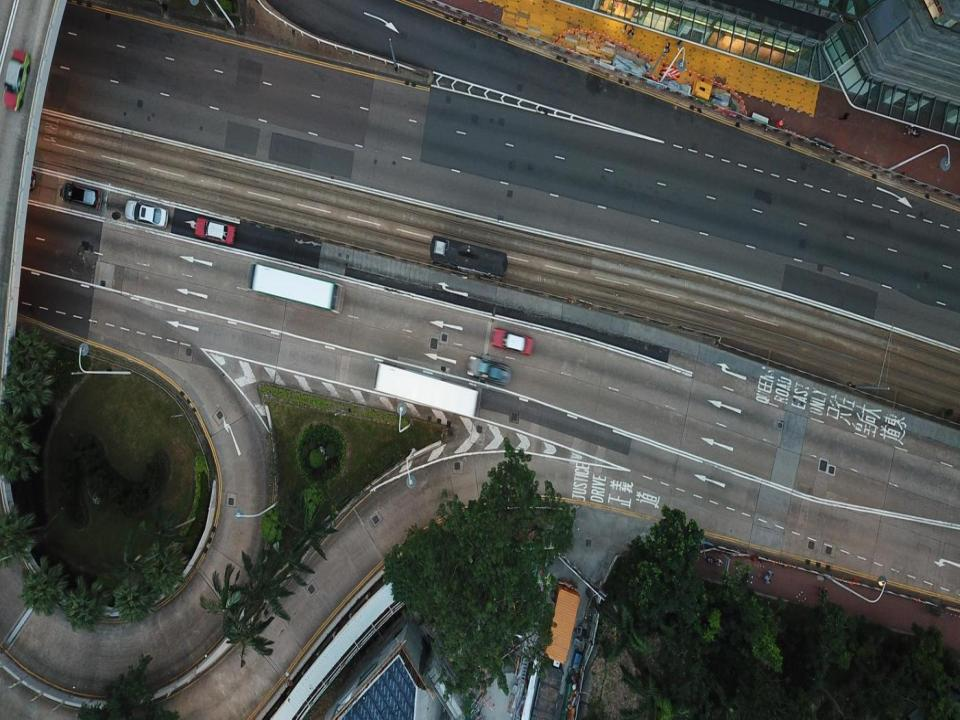bus: (370, 360, 478, 422), (246, 261, 344, 317), (428, 235, 508, 278)
car: (3, 50, 29, 114), (466, 354, 511, 386), (123, 198, 170, 228), (489, 324, 533, 356), (192, 216, 238, 245), (0, 164, 35, 191)
van: (59, 181, 104, 207)
